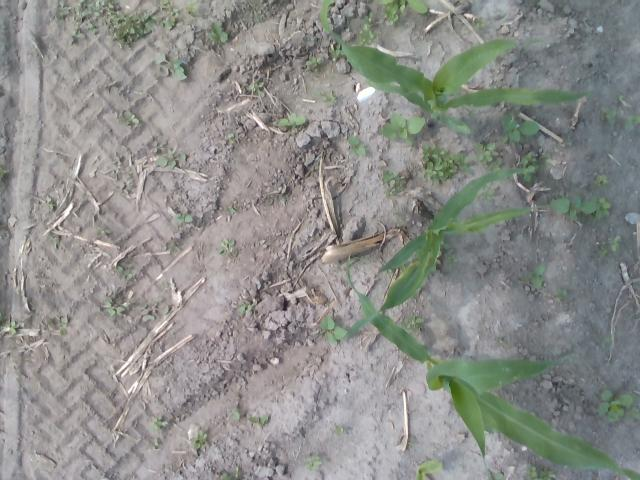Maize: (344, 251, 640, 480), (338, 164, 550, 342), (318, 0, 589, 136)
Weeds: (418, 142, 472, 184), (68, 0, 114, 45), (104, 10, 157, 49), (378, 111, 425, 147), (550, 194, 610, 222), (596, 389, 640, 422), (498, 112, 540, 144), (378, 0, 428, 25), (150, 140, 187, 168), (153, 51, 186, 81), (320, 315, 350, 347), (136, 296, 170, 324), (110, 156, 134, 193), (474, 141, 502, 172), (380, 168, 408, 196), (516, 150, 540, 182), (520, 264, 546, 290), (594, 234, 621, 257), (158, 0, 178, 30), (277, 111, 305, 132), (438, 240, 457, 270), (524, 462, 555, 480), (354, 24, 378, 46), (346, 136, 369, 158), (0, 310, 19, 336), (208, 21, 228, 44), (190, 430, 210, 452), (401, 314, 424, 333), (104, 297, 126, 316), (218, 239, 240, 258), (314, 88, 338, 104), (51, 0, 70, 20), (247, 80, 267, 98), (118, 109, 140, 125), (181, 0, 198, 20), (246, 1, 264, 19), (52, 316, 68, 336), (114, 264, 134, 280), (598, 105, 618, 121), (302, 453, 320, 470), (248, 412, 269, 426), (238, 299, 258, 313), (592, 173, 612, 187), (173, 212, 194, 225), (306, 56, 322, 73), (623, 112, 640, 128), (150, 416, 166, 432), (478, 188, 496, 202), (218, 468, 238, 480), (95, 224, 112, 238), (484, 469, 504, 480), (332, 424, 346, 437), (330, 43, 342, 58), (554, 286, 566, 300), (472, 16, 486, 28), (230, 407, 242, 420), (45, 196, 55, 210), (0, 166, 9, 181), (600, 336, 612, 346), (362, 12, 373, 22), (383, 268, 393, 278), (226, 205, 237, 213), (223, 133, 234, 140), (48, 236, 58, 243), (499, 336, 506, 346), (154, 440, 162, 447)
